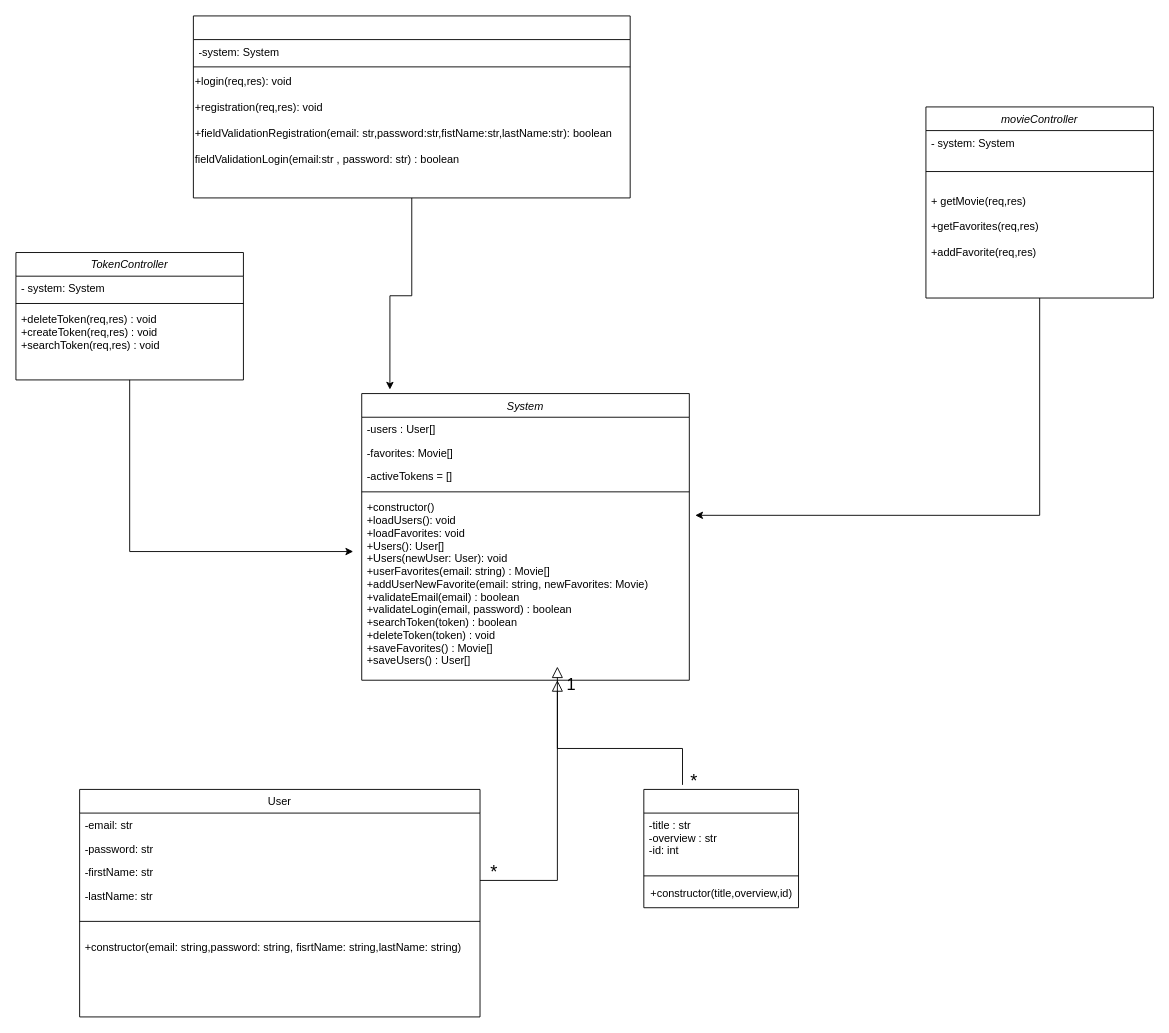
The diagram is 1169 pixels wide and 1033 high, and some of its shapes have lost their labels. The shapes that lost their labels are listed below. From the top down, each one's box as (x1, y1, x2, y2) in pixels, then its label:
(192, 15, 630, 198): userController
(643, 789, 799, 908): Movie
